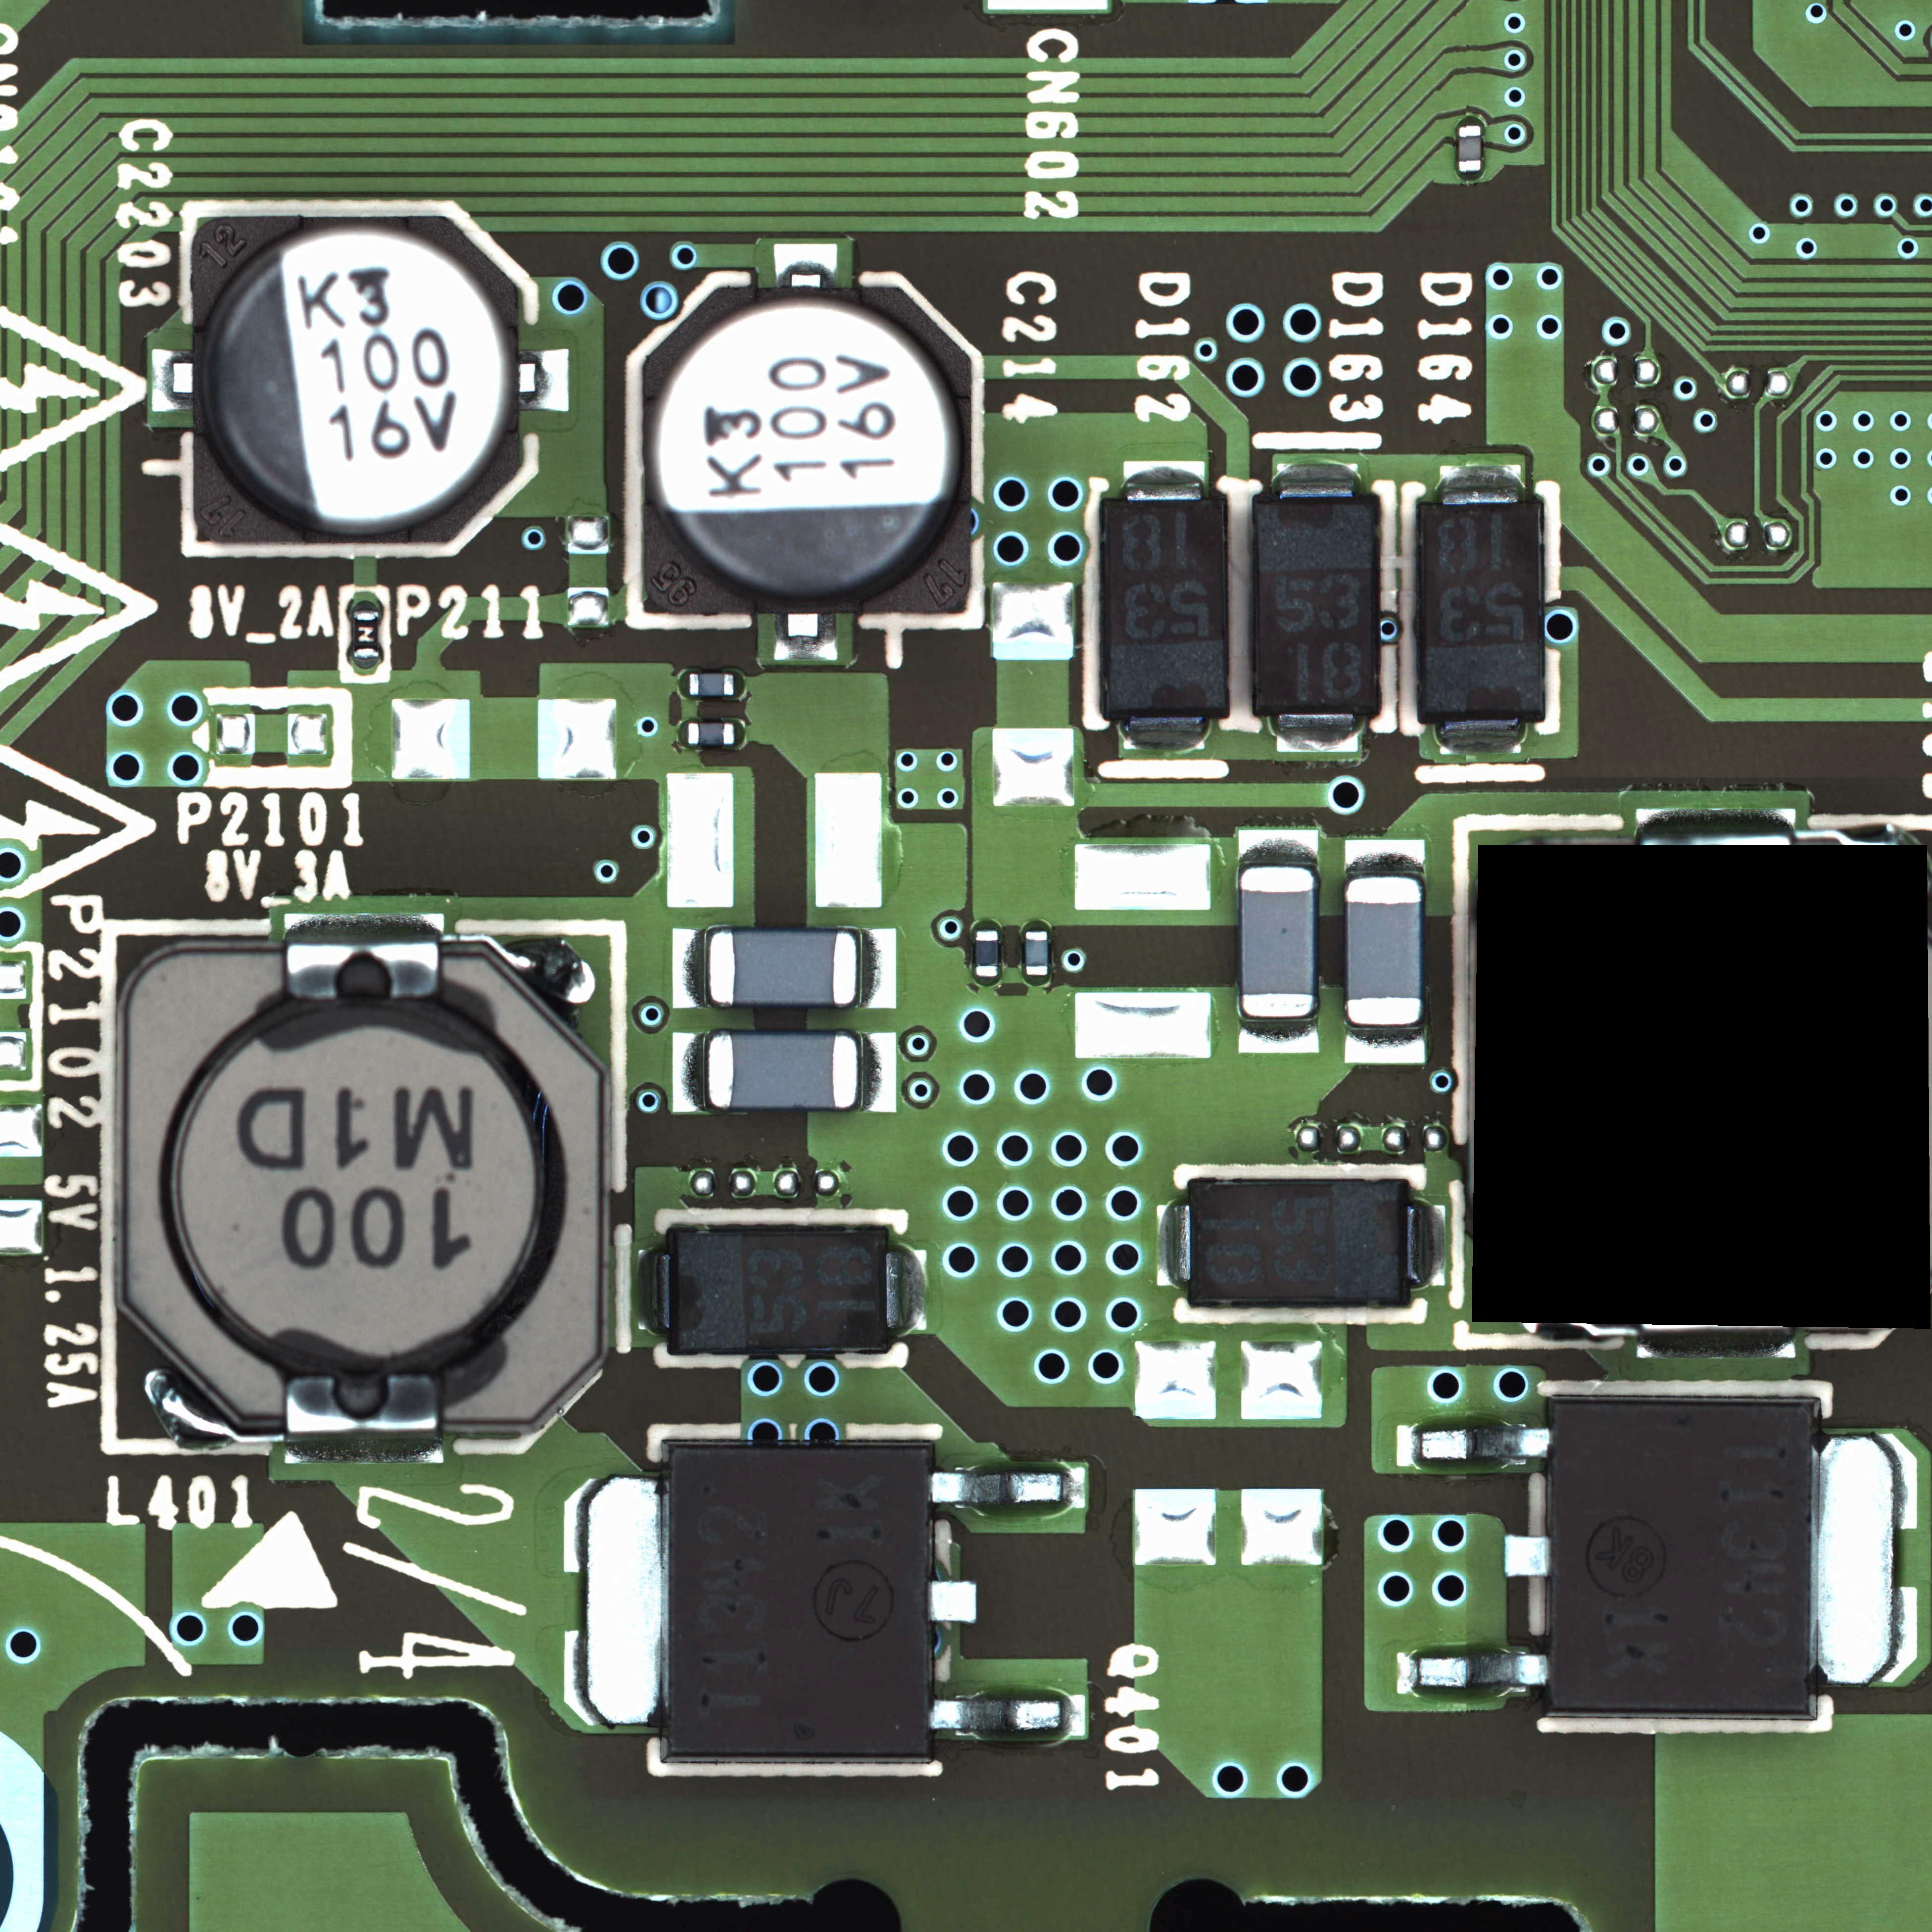Package: (118, 944, 611, 1430), (194, 213, 521, 546), (640, 288, 970, 614), (1548, 1401, 1818, 1715), (668, 1442, 930, 1762), (1190, 1179, 1407, 1305), (670, 1226, 888, 1352), (1420, 501, 1545, 720), (1103, 498, 1225, 716), (1254, 496, 1377, 713), (708, 1034, 858, 1109), (1347, 876, 1422, 1025), (708, 931, 858, 1004), (1241, 867, 1314, 1016), (352, 611, 382, 656), (975, 930, 998, 976), (688, 722, 734, 744), (1458, 126, 1481, 170), (1025, 931, 1048, 974), (690, 673, 733, 694)
Solder: (563, 1475, 666, 1723), (1822, 1435, 1918, 1686), (932, 1692, 1087, 1735), (931, 1467, 1085, 1509), (1398, 1425, 1548, 1464), (1400, 1654, 1546, 1691), (285, 1432, 443, 1464), (283, 913, 445, 943), (1638, 1334, 1793, 1361), (1636, 804, 1794, 829), (1275, 714, 1358, 753), (888, 1248, 927, 1330), (520, 348, 569, 412), (1409, 1203, 1446, 1287), (859, 1031, 896, 1113), (773, 614, 837, 660), (773, 242, 838, 288), (1123, 461, 1206, 496), (1437, 721, 1524, 755), (859, 928, 895, 1009), (1240, 829, 1317, 866), (1440, 465, 1521, 500), (635, 1249, 668, 1334), (1347, 838, 1423, 875), (1347, 1026, 1424, 1063), (1124, 717, 1206, 750), (673, 1032, 706, 1112), (151, 347, 192, 412), (1241, 1017, 1316, 1053), (1158, 1203, 1190, 1285), (1277, 462, 1357, 495), (673, 928, 706, 1008), (931, 1581, 977, 1623), (1505, 1535, 1546, 1575), (353, 656, 380, 669), (351, 601, 380, 611), (1025, 976, 1048, 986), (679, 673, 690, 695), (1457, 116, 1483, 125), (734, 722, 744, 744), (733, 673, 743, 695), (1025, 920, 1048, 930), (975, 977, 998, 987), (975, 920, 998, 929), (678, 722, 687, 745), (1459, 171, 1481, 180)
